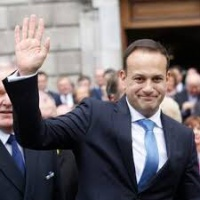ring: (21, 14, 29, 45)
